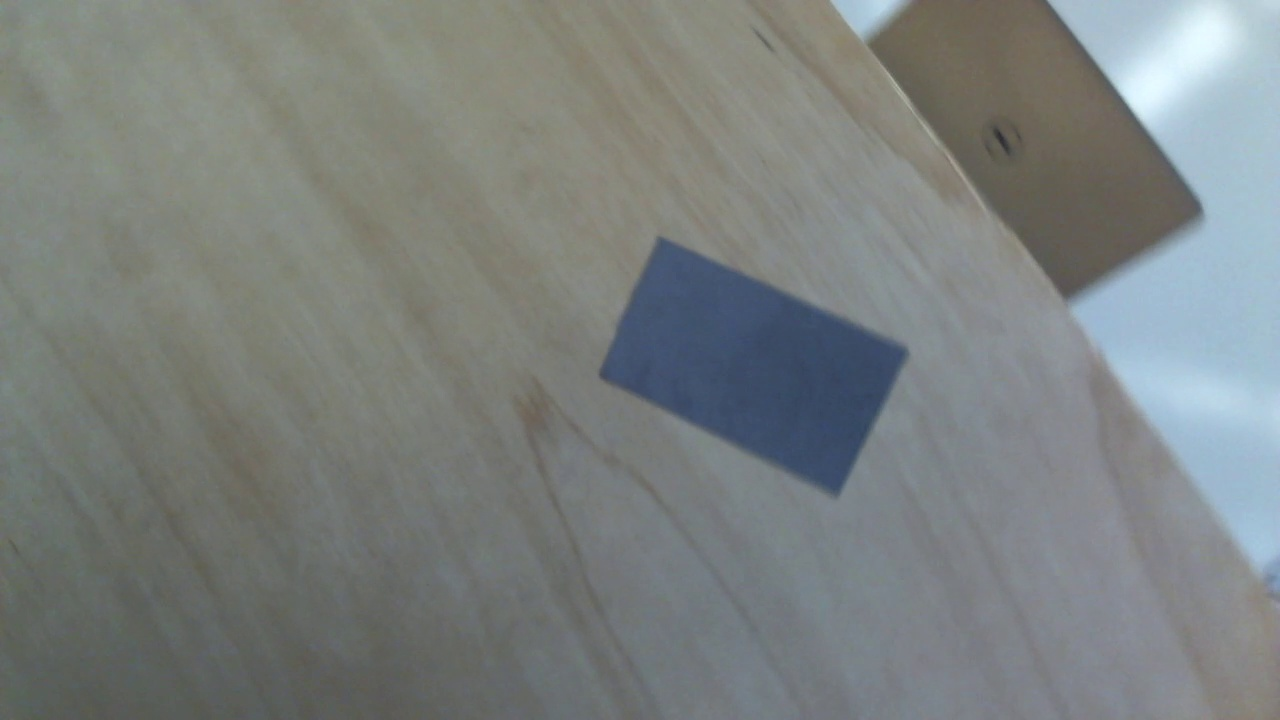Tape: (595, 235, 909, 499)
